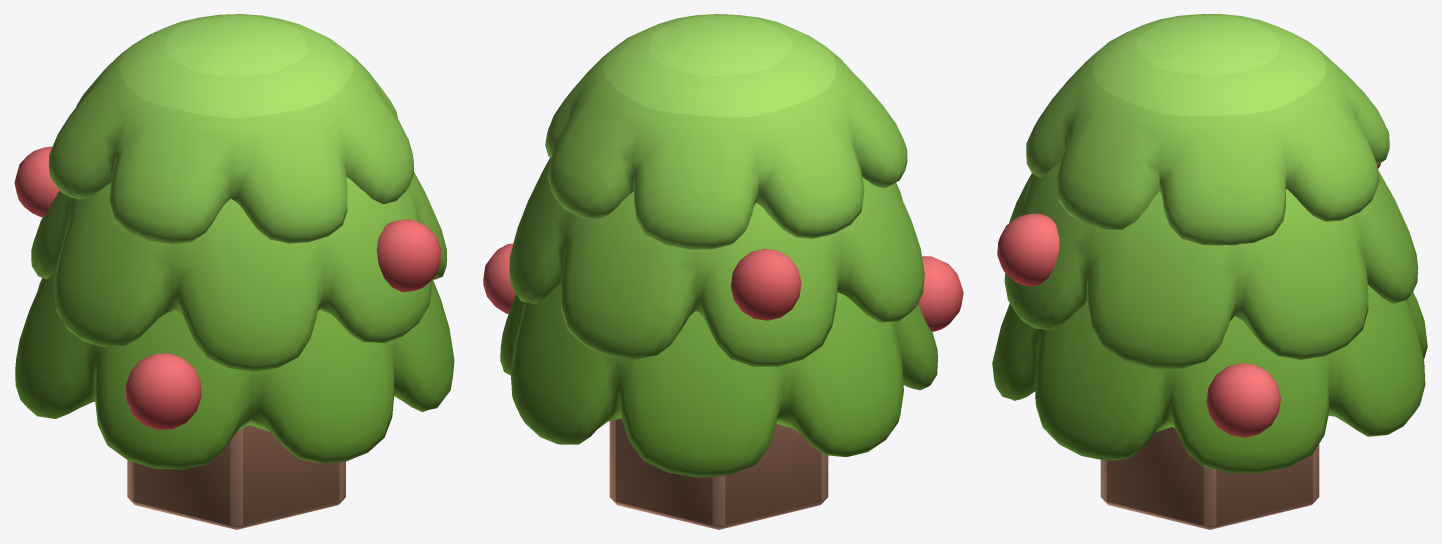
File: big_leafs_tree_apple_red.fbx
The picture shows the model from 3 angles, left to right: view 1: azimuth 30°, elevation 25°; view 2: azimuth 150°, elevation 25°; view 3: azimuth 270°, elevation 25°; orthographic projection.
Parts seen in each view (by area): view 1: big_leafs_tree_apple_red, apples_red; view 2: big_leafs_tree_apple_red, apples_red; view 3: big_leafs_tree_apple_red, apples_red.
Part boxes in pixels (x1,y1,x2,y2): big_leafs_tree_apple_red: (15,14,454,529); apples_red: (14,146,440,429); big_leafs_tree_apple_red: (500,14,937,529); apples_red: (483,243,963,331); big_leafs_tree_apple_red: (992,14,1427,529); apples_red: (997,163,1380,437).
Size of the model in its own units: 253 by 267 by 237.
